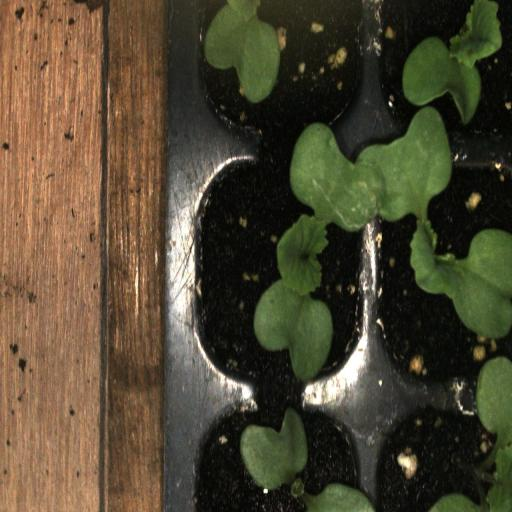seedling: (180, 155, 371, 386), (371, 155, 512, 387), (373, 0, 512, 154)
